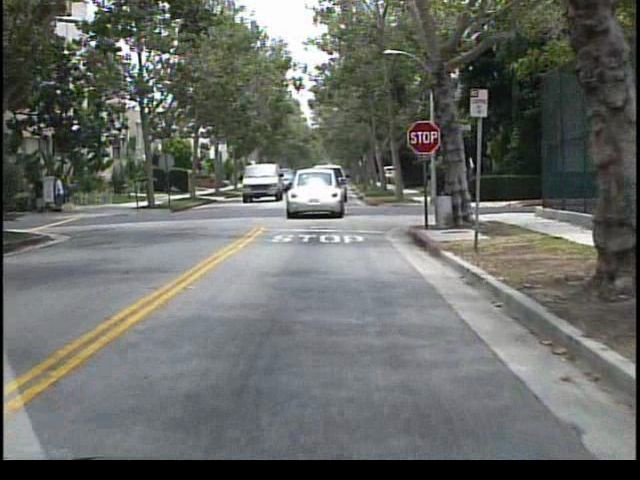person: (54, 169, 68, 215), (37, 172, 50, 216)
